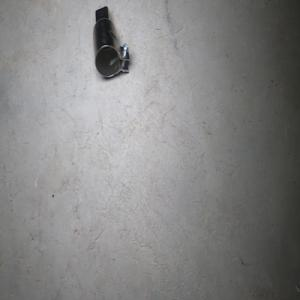MetalPart: (92, 5, 130, 78)
